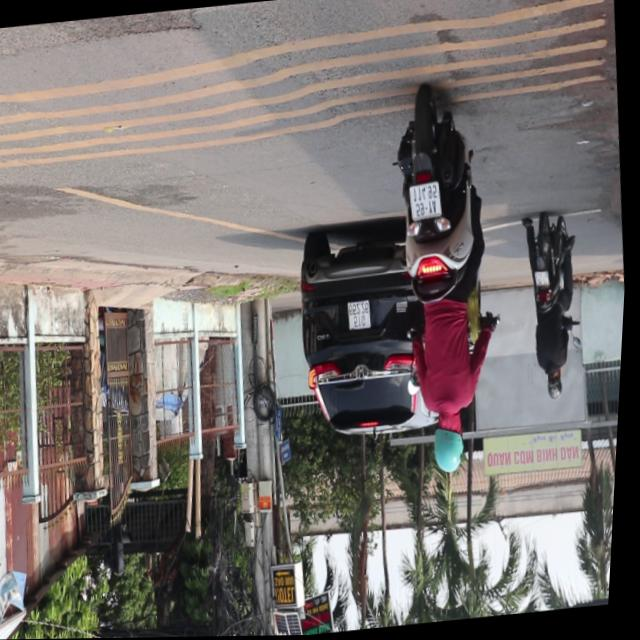helmet: (431, 413, 471, 477), (546, 375, 566, 404)
licenseplate: (374, 92, 519, 484), (515, 213, 591, 408)
nohelmet: (409, 181, 443, 221), (536, 271, 551, 288)
